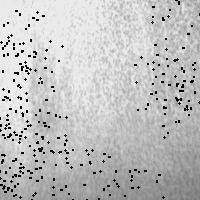pitted_surface: (30, 1, 199, 116), (2, 39, 61, 99), (8, 108, 66, 167), (134, 56, 194, 109), (48, 149, 108, 200), (0, 133, 53, 187), (0, 79, 48, 136), (0, 10, 45, 69), (151, 0, 200, 54), (162, 80, 200, 136), (103, 169, 163, 200), (0, 167, 35, 200)
